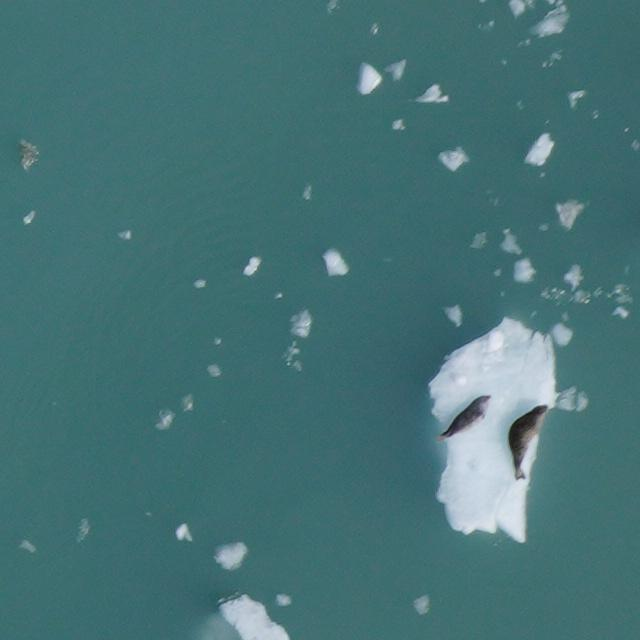seal: (495, 397, 551, 483), (434, 386, 502, 454)
